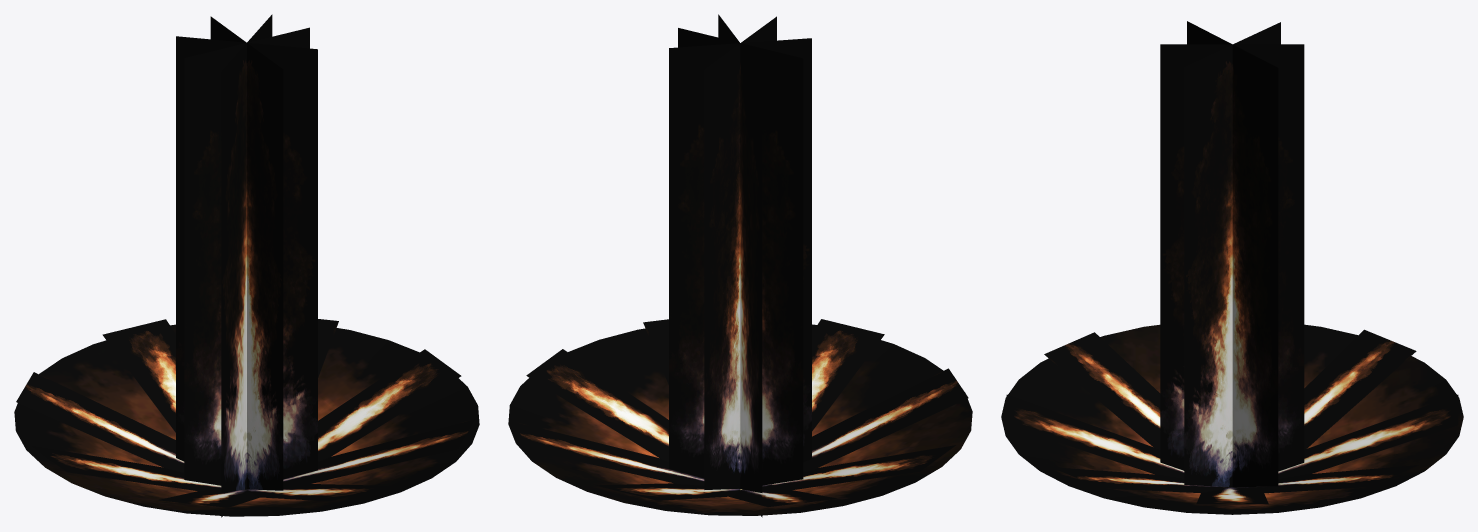
Rendered from muzzleFlash.fbx.
3 views of the same model, side by side, from view 1: azimuth 30°, elevation 25°; view 2: azimuth 150°, elevation 25°; view 3: azimuth 270°, elevation 25° (orthographic).
Parts seen in each view (by area): view 1: Plano, Plano.001, Cono; view 2: Plano, Plano.001, Cono; view 3: Plano, Plano.001, Cono.
Part boxes in pixels (<box>): Plano: <box>176,14,317,517</box>; Plano.001: <box>16,319,475,507</box>; Cono: <box>14,324,479,516</box>; Plano: <box>669,14,811,517</box>; Plano.001: <box>512,319,968,506</box>; Cono: <box>508,324,972,515</box>; Plano: <box>1160,21,1304,487</box>; Plano.001: <box>1006,329,1458,504</box>; Cono: <box>1001,324,1463,514</box>.
Bounding box in the file's own units: 516 × 545 × 516.
Materials: 1 (1 with a texture image).
